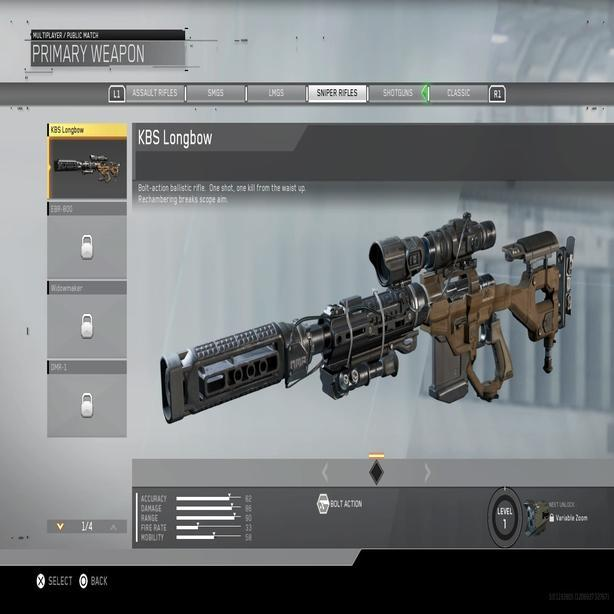Firearm: (136, 200, 605, 421)
